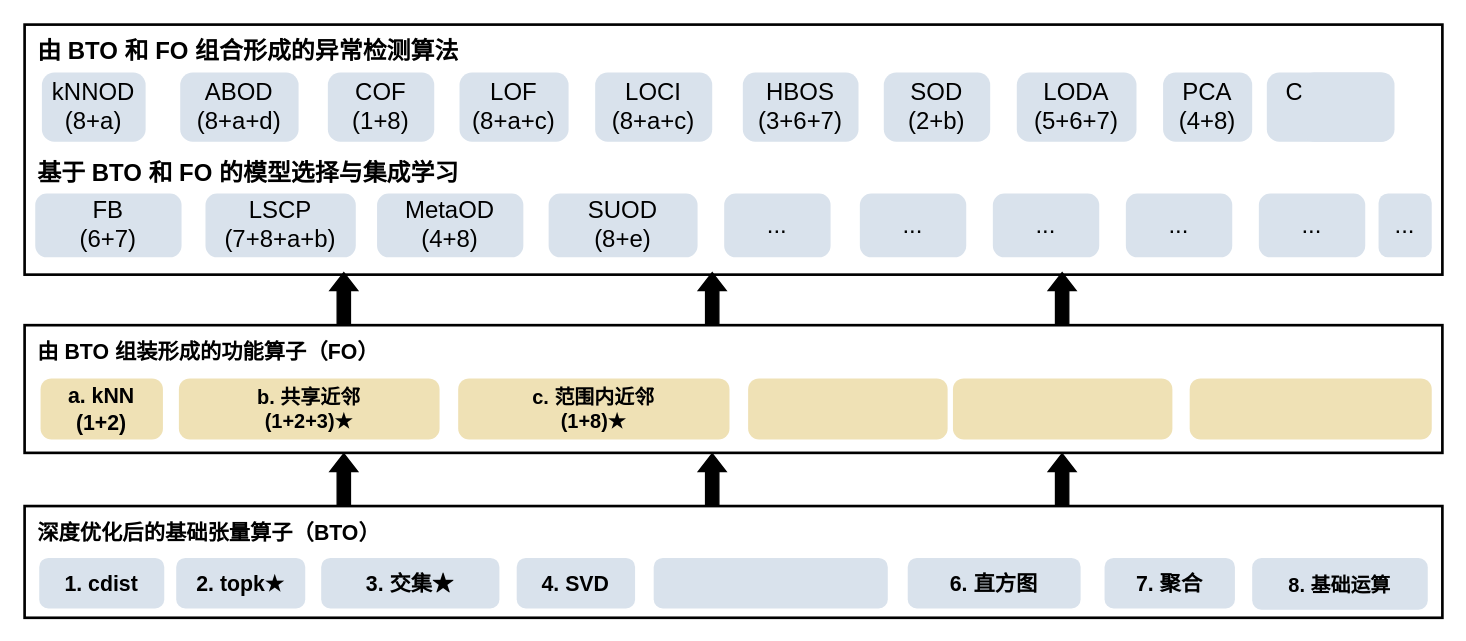
Some shapes in this 1466 by 641 pixel diagram are drawn without their labels. Here are the shapes that lost their labels. From the top down, the centre of each, then its label:
At pixel 1347 106: "ECOD (7+f)".
At pixel 847 408: "d. 余弦相似度 (1+8)".
At pixel 1062 408: "e. 降维 (4,6)".
At pixel 1310 408: "f. 密度估计 (4,6)".
At pixel 770 582: "5. 特征采样器".
